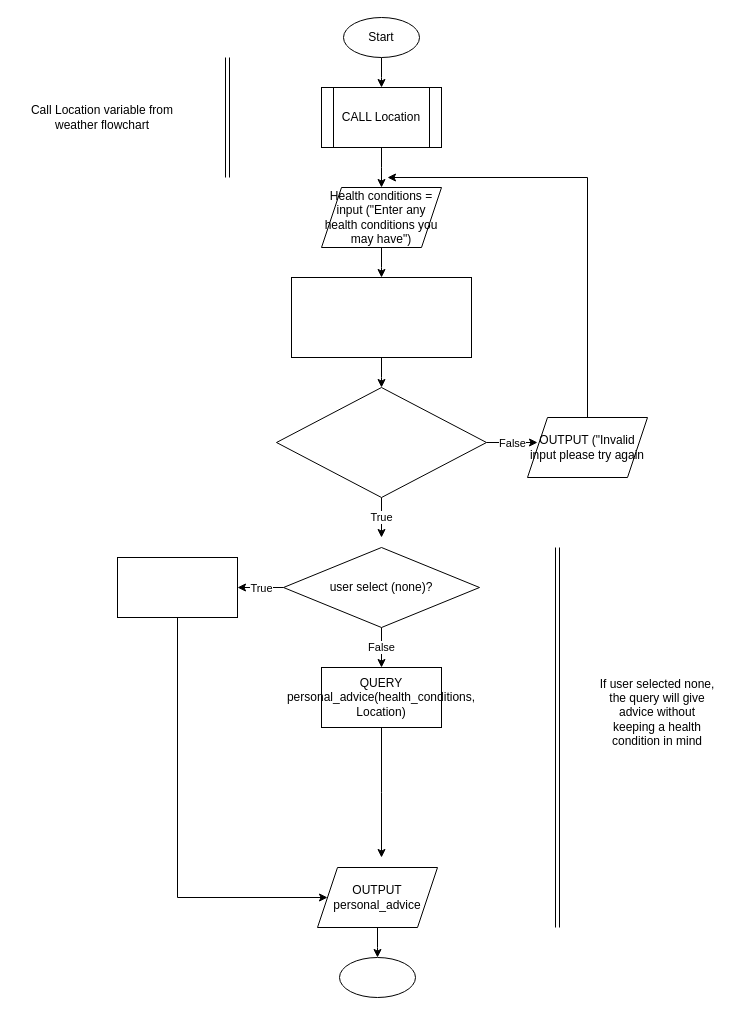
This 734x1015 diagram has some shape labels left out. The shapes that lost their labels are listed below. From the top down, each one's centre as x and y in pixels, then its label:
the point at 381,317: QUERY Search request(health_conditions, none)
the point at 381,442: request match?
the point at 177,587: QUERY ELSE personal_advice(Location)
the point at 377,977: End
